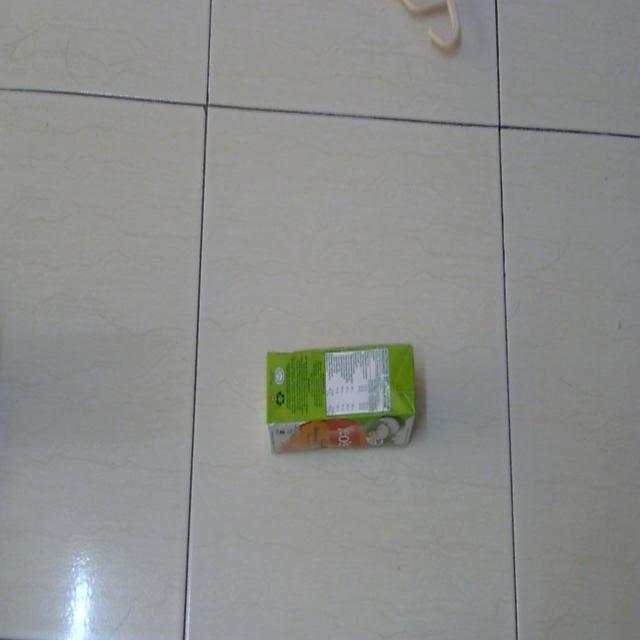plastic_laydown_0rotation: (255, 333, 420, 458)
